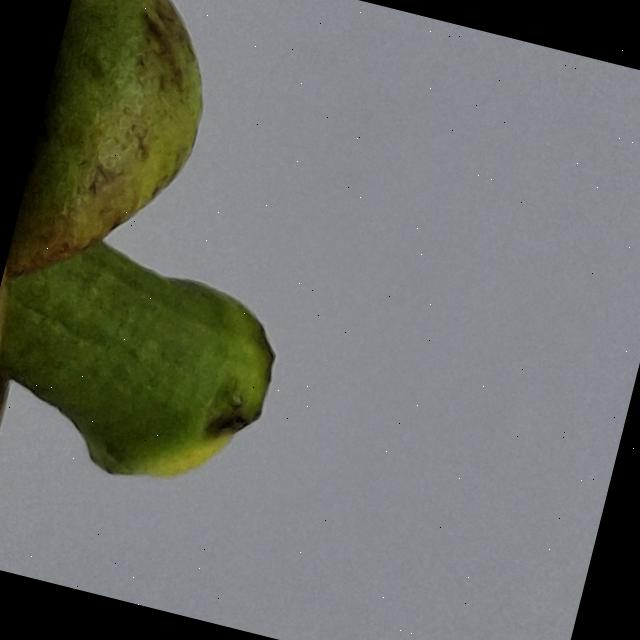mangosteen: (0, 0, 412, 634)
